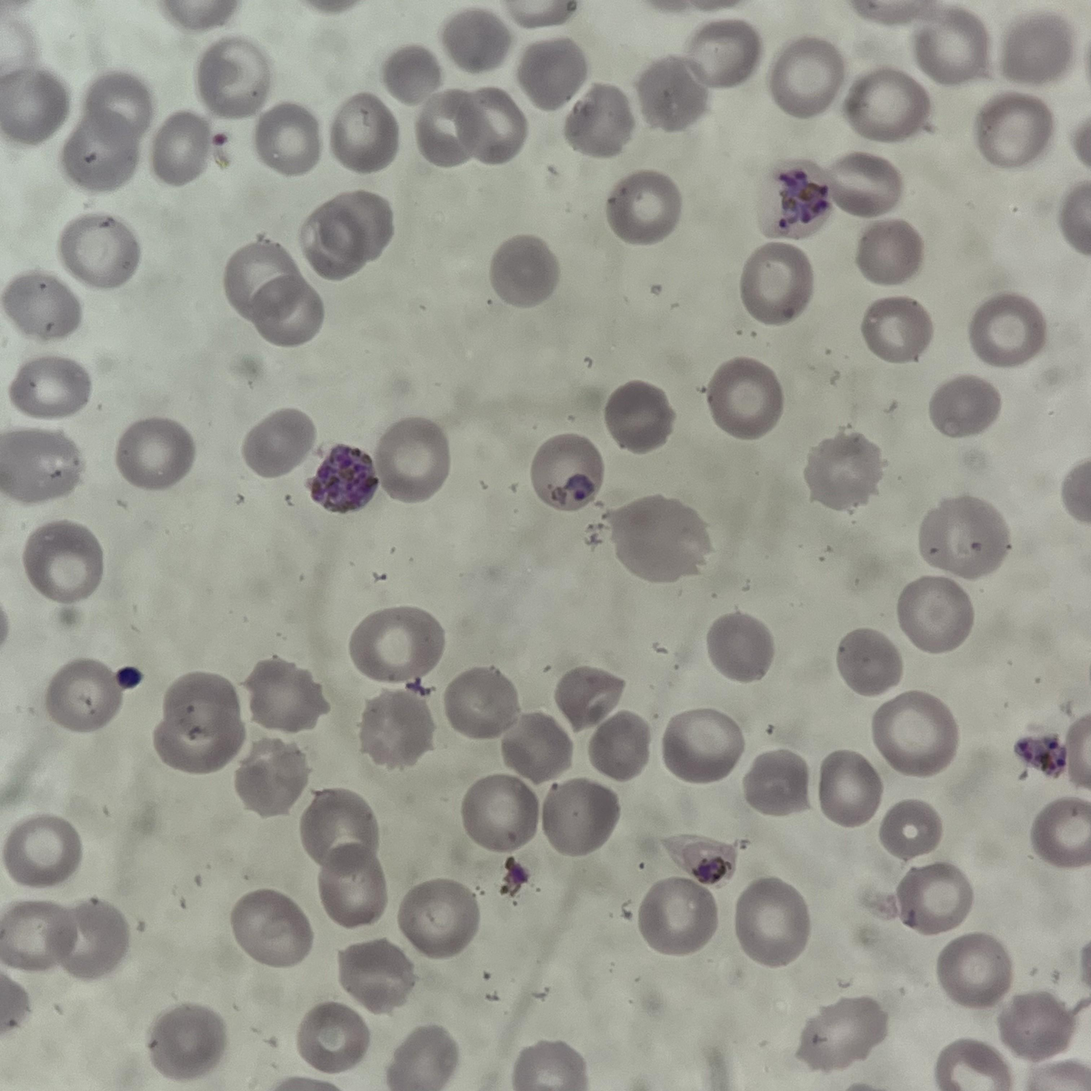Infected: (755, 161, 839, 247), (533, 430, 603, 512), (306, 442, 383, 513), (1011, 730, 1067, 782)
Uninfected: (607, 495, 701, 581), (918, 495, 1009, 579), (794, 994, 887, 1072), (349, 605, 442, 682), (21, 521, 103, 605), (872, 694, 957, 774), (148, 704, 245, 774), (732, 876, 809, 964), (245, 656, 329, 735), (766, 36, 845, 120), (232, 889, 312, 970), (637, 877, 720, 955), (332, 936, 416, 1013), (299, 788, 376, 872), (0, 425, 79, 506), (604, 169, 686, 247), (374, 417, 451, 500), (58, 114, 141, 191), (195, 38, 274, 118), (805, 428, 883, 509), (848, 65, 929, 143), (706, 359, 782, 440), (544, 777, 619, 859), (332, 90, 403, 176), (966, 289, 1044, 367), (975, 91, 1051, 171), (460, 774, 538, 851), (635, 53, 711, 132), (146, 1005, 227, 1079), (0, 899, 82, 972), (56, 900, 128, 982), (316, 844, 387, 927), (60, 213, 136, 290), (118, 419, 197, 493), (400, 881, 479, 955), (236, 735, 310, 814), (361, 689, 433, 770), (898, 577, 975, 652), (742, 242, 813, 323), (662, 708, 743, 779), (898, 856, 968, 938), (3, 271, 82, 343), (294, 1002, 370, 1075), (45, 656, 121, 729), (3, 818, 83, 887), (224, 244, 299, 317), (486, 235, 561, 307), (412, 92, 487, 164), (918, 5, 986, 84), (684, 21, 763, 89), (8, 356, 93, 419), (445, 663, 518, 736), (162, 672, 242, 738), (563, 82, 632, 158), (819, 749, 885, 828), (604, 381, 676, 453), (516, 38, 588, 110), (0, 73, 71, 146), (1003, 10, 1073, 84), (457, 86, 526, 161), (500, 711, 576, 779), (940, 935, 1011, 1007), (1003, 994, 1074, 1065), (253, 102, 321, 176), (250, 275, 321, 345), (245, 407, 315, 478), (552, 665, 625, 733), (709, 612, 776, 684), (588, 711, 654, 783), (927, 374, 1000, 439), (832, 150, 901, 218), (387, 1024, 457, 1091), (302, 204, 363, 280), (837, 628, 906, 695), (740, 750, 810, 816), (441, 11, 514, 73), (88, 75, 154, 143), (1032, 792, 1091, 868), (320, 196, 393, 257), (931, 1038, 1015, 1091), (863, 296, 930, 362), (857, 222, 924, 285), (154, 112, 210, 184), (512, 1040, 589, 1091), (878, 798, 940, 860), (382, 43, 445, 103), (667, 832, 736, 884)
